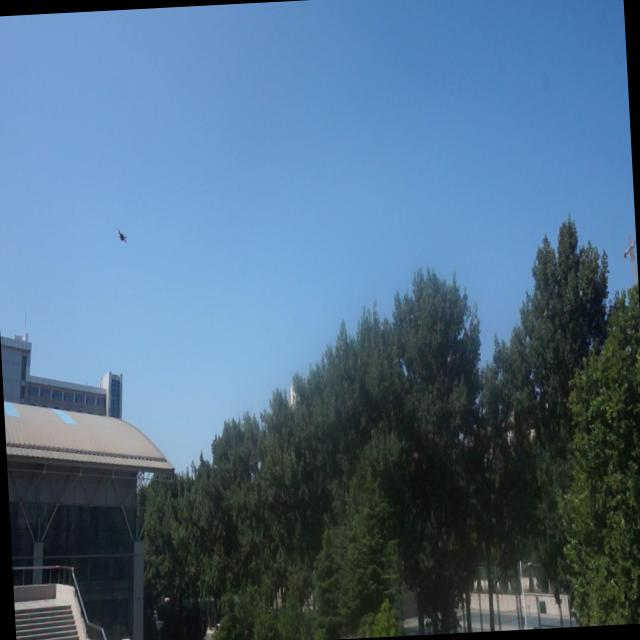drone: (115, 224, 132, 246)
